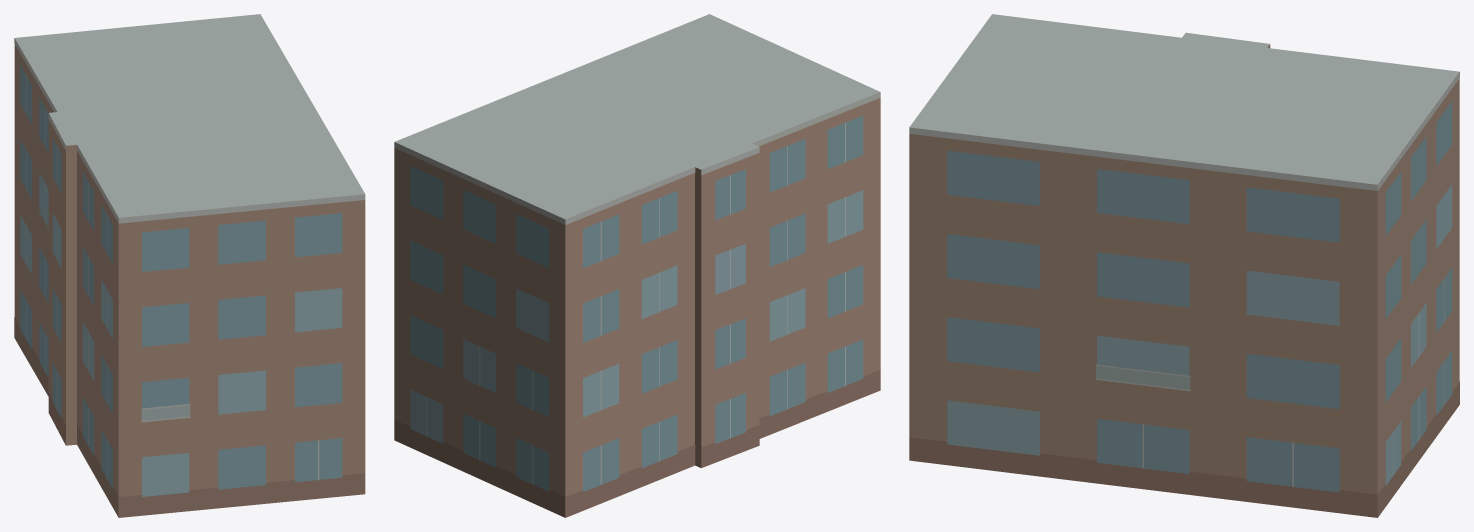
The model's file is survey-upis-32873987.glb.
3 views of the same model, side by side, from view 1: azimuth 30°, elevation 25°; view 2: azimuth 150°, elevation 25°; view 3: azimuth 270°, elevation 25° (orthographic). The views are drawn at different scales.
Parts seen in each view (by area): view 1: survey-upis-32873987.tmp; view 2: survey-upis-32873987.tmp; view 3: survey-upis-32873987.tmp.
Part boxes in pixels (x1,y1,x2,y2): survey-upis-32873987.tmp: (14, 14, 365, 517); survey-upis-32873987.tmp: (394, 14, 880, 517); survey-upis-32873987.tmp: (909, 14, 1459, 517).
Size of the model in its own units: 14.25 by 12.95 by 19.41.
